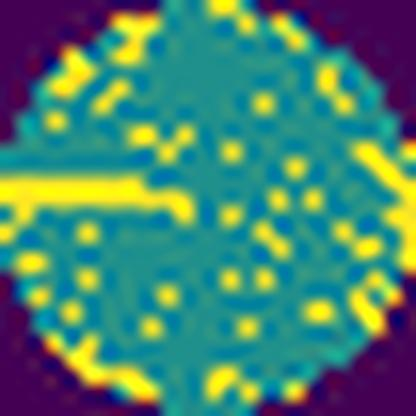Scratch: (0, 170, 203, 231)
